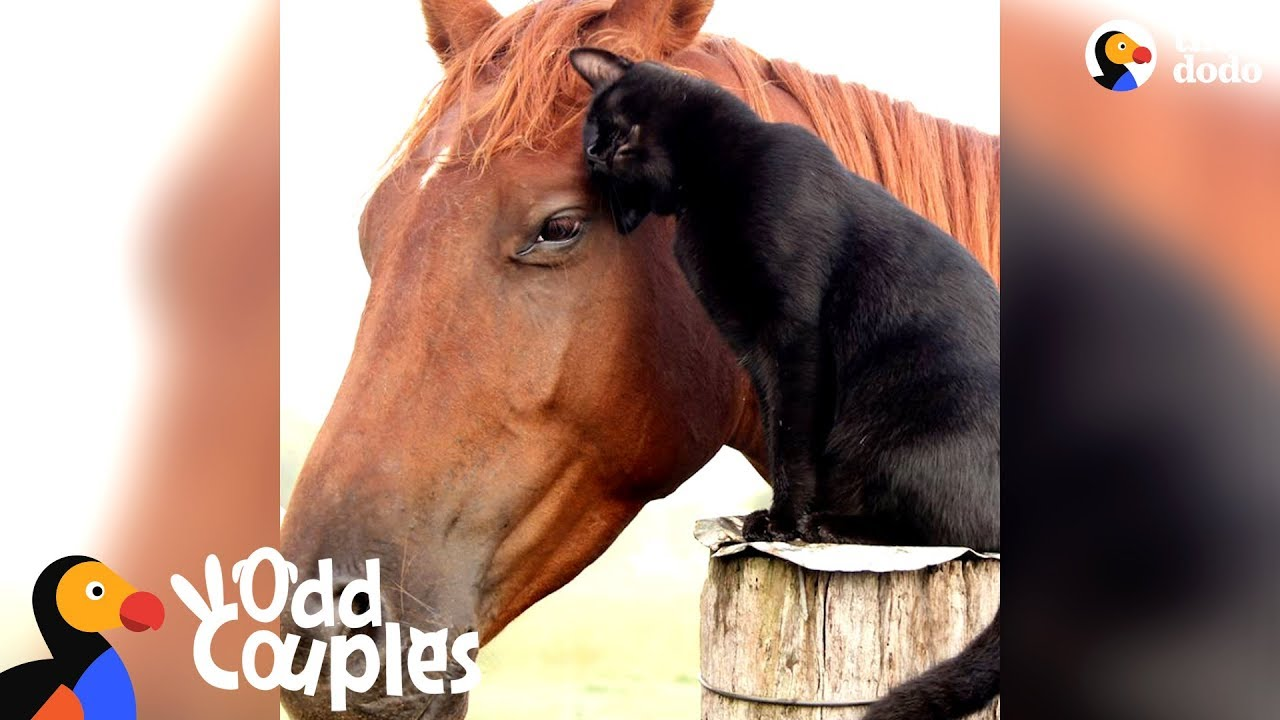Cat: (562, 38, 1025, 720)
Horse: (297, 9, 1001, 720)
